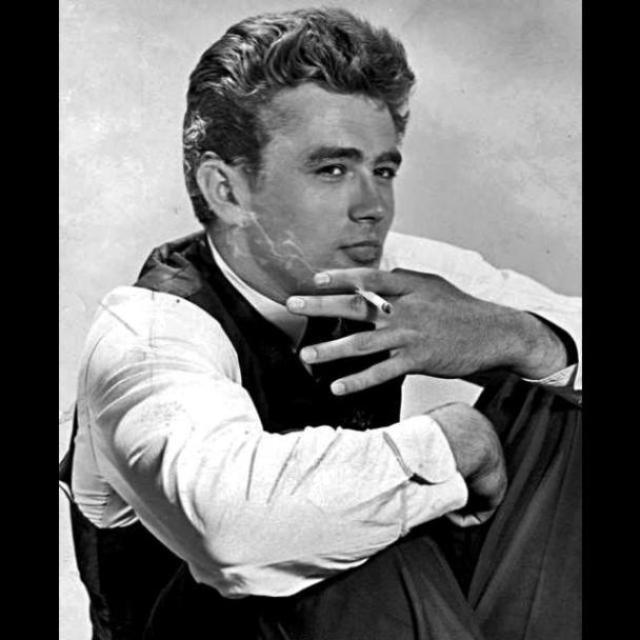rokok: (356, 284, 396, 318)
